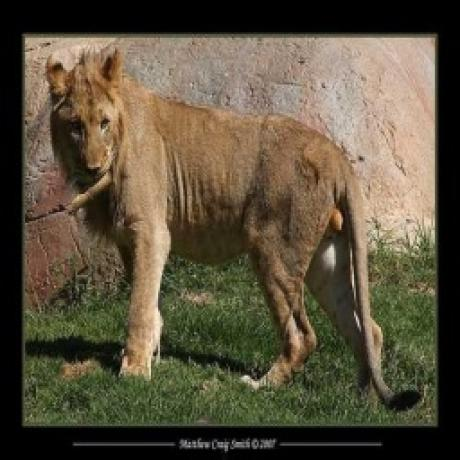Lion: (46, 45, 430, 414)
